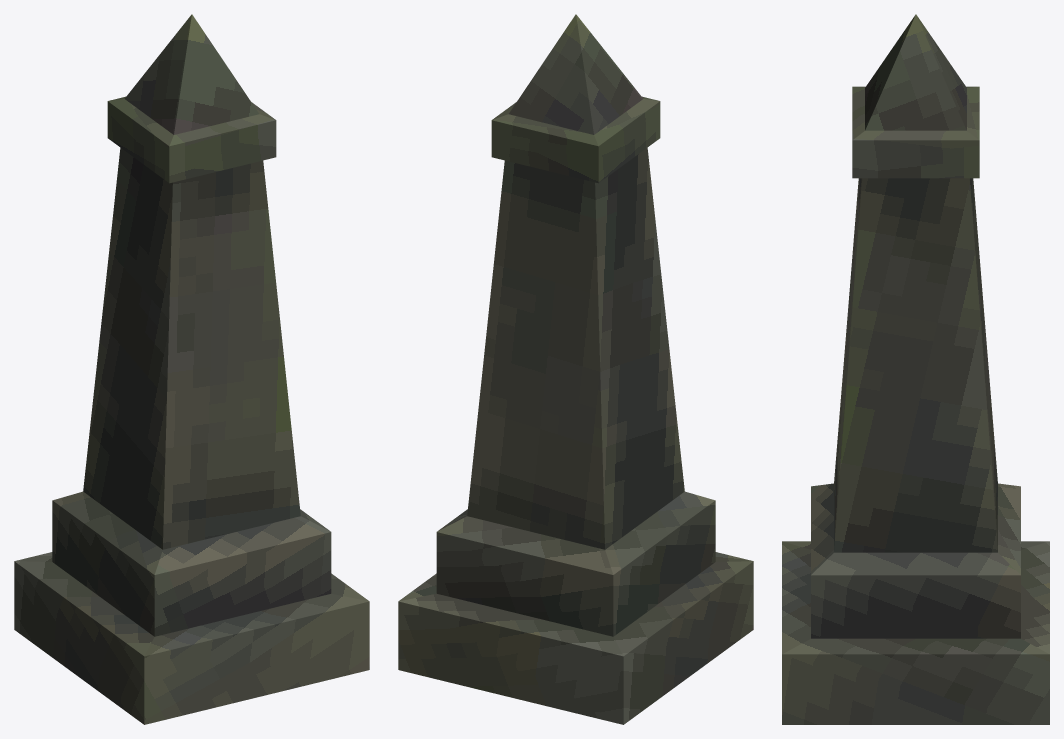
File: item_halloween_tombstone_tall.glb
3 views of the same model, side by side, from view 1: azimuth 30°, elevation 25°; view 2: azimuth 150°, elevation 25°; view 3: azimuth 270°, elevation 25° (orthographic). The views are drawn at different scales.
Visible parts, largest first — view 1: tombstone_tall; view 2: tombstone_tall; view 3: tombstone_tall.
Boxes of the visible parts, x1=… form: tombstone_tall: x1=14, y1=14, x2=369, y2=724; tombstone_tall: x1=398, y1=14, x2=753, y2=724; tombstone_tall: x1=782, y1=14, x2=1049, y2=724.
Bounding box in the file's own units: 0.4451 × 1.2 × 0.4451.
1 material, 1 textured.
